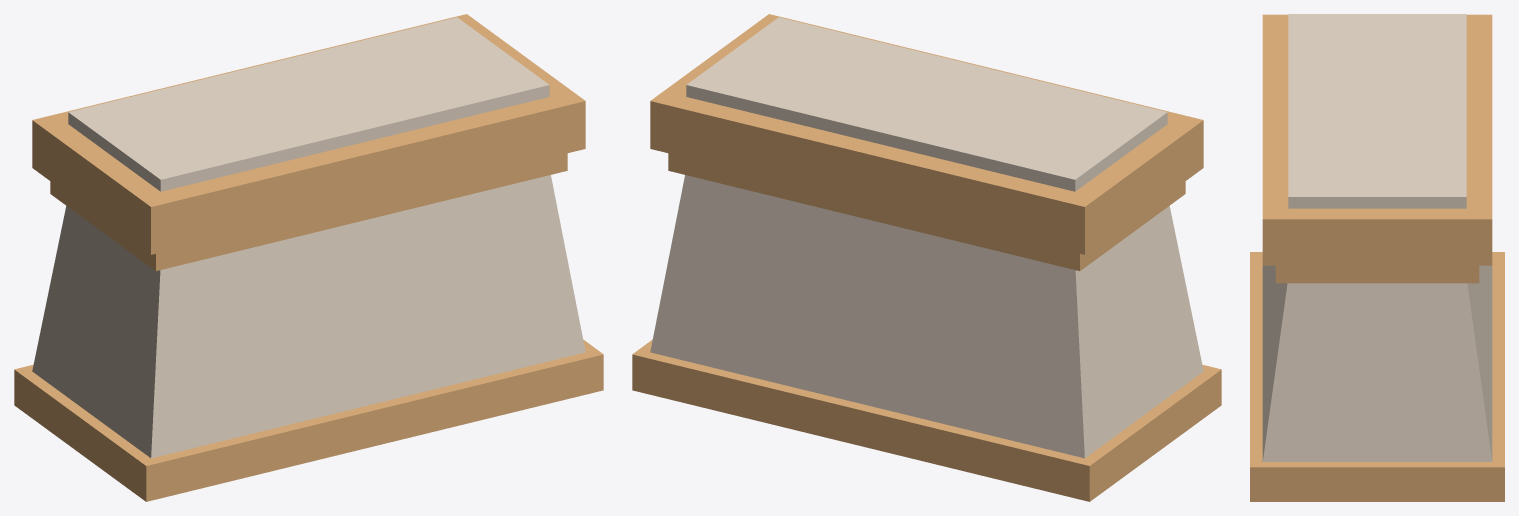
The model's file is PedestalTwoLong.fbx.
3 renders of one model, left to right at view 1: azimuth 30°, elevation 25°; view 2: azimuth 150°, elevation 25°; view 3: azimuth 270°, elevation 25°, orthographic. The views are drawn at different scales.
Parts seen in each view (by area): view 1: Cube; view 2: Cube; view 3: Cube.
Boxes of the visible parts, left/top/right/bottom form: Cube: left=14, top=14, right=603, bottom=501; Cube: left=632, top=14, right=1221, bottom=501; Cube: left=1250, top=14, right=1504, bottom=501.
Bounding box in the file's own units: 4 × 2.5 × 2.
